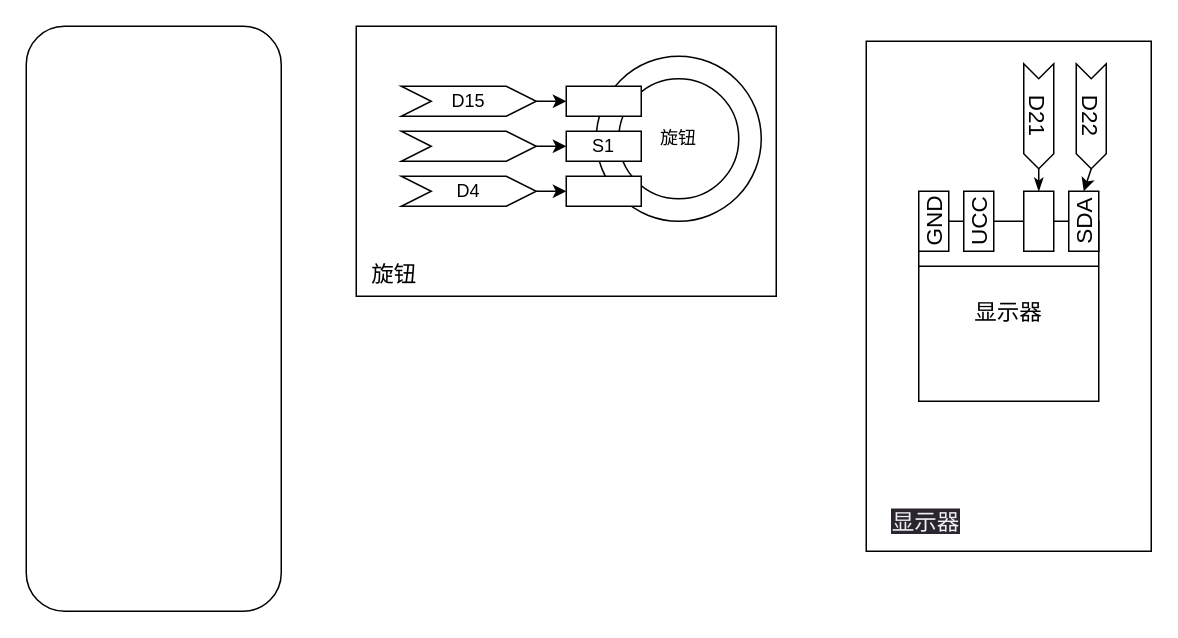
Image size: 1178x638. Some labels were removed from this diagram. The shapes that lost their labels are listed below. From the top down, each one's centre as x and y in pixels, then its label:
the point at 603,100: KEY
the point at 468,145: D16
the point at 603,190: S2
the point at 1038,220: SCL
the point at 153,318: ESP32-WROOM-32
